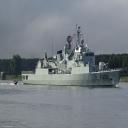Fragata: (22, 25, 124, 88)
